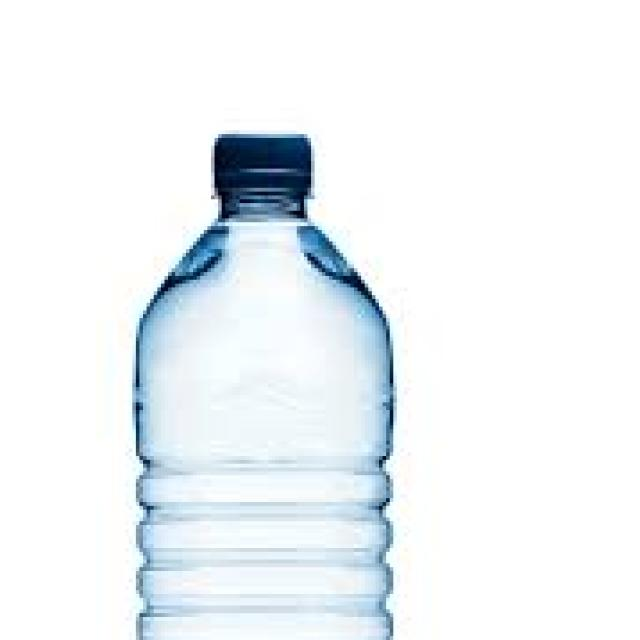organic: (109, 105, 440, 628)
